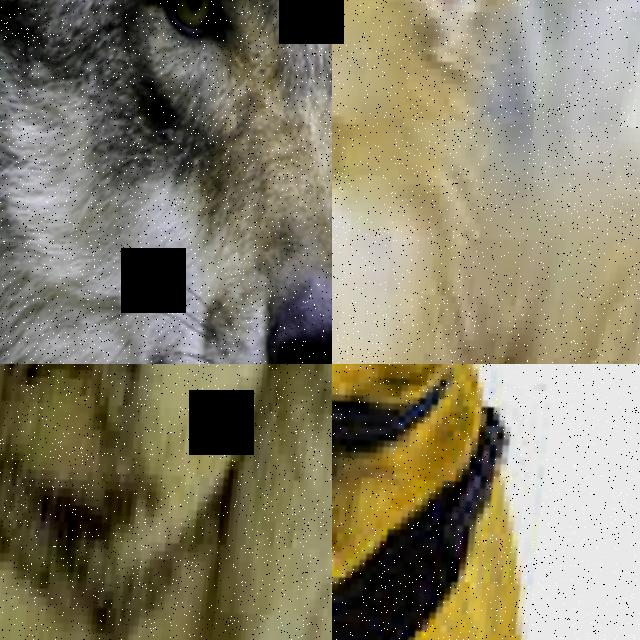dog: (332, 0, 640, 364), (332, 364, 625, 640)
wolf: (0, 0, 332, 364), (0, 364, 332, 640), (147, 364, 332, 640)
